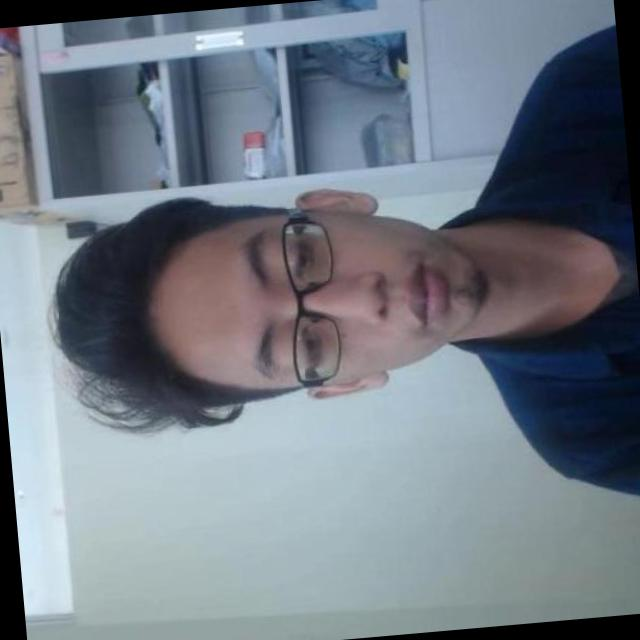bareface: (56, 144, 506, 444)
